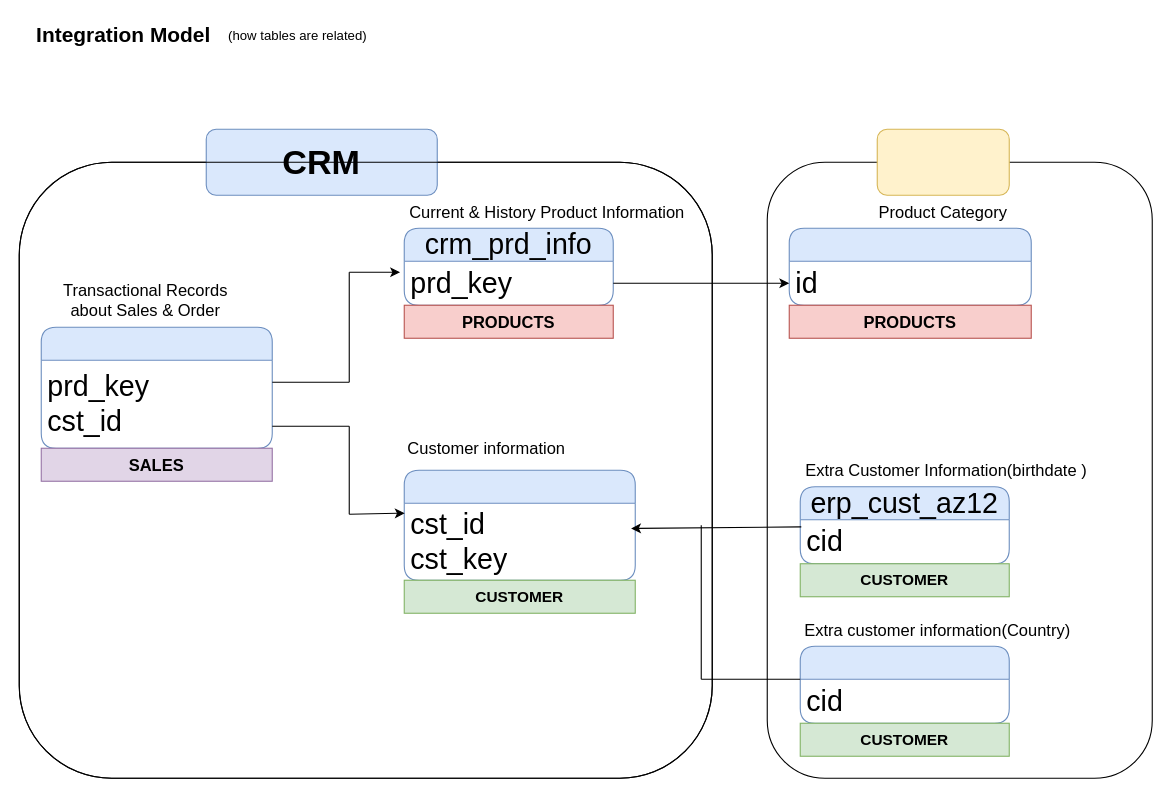
The diagram is 1172 pixels wide and 798 high, and some of its shapes have lost their labels. Each missing label, with the box of its shape:
crm_cust_info: (403, 469, 635, 580)
crm_sales_details: (40, 326, 272, 448)
ERP: (876, 128, 1009, 195)
erp_loc_a101: (799, 645, 1009, 723)
erp_px_cat_g1v2: (788, 227, 1031, 305)
